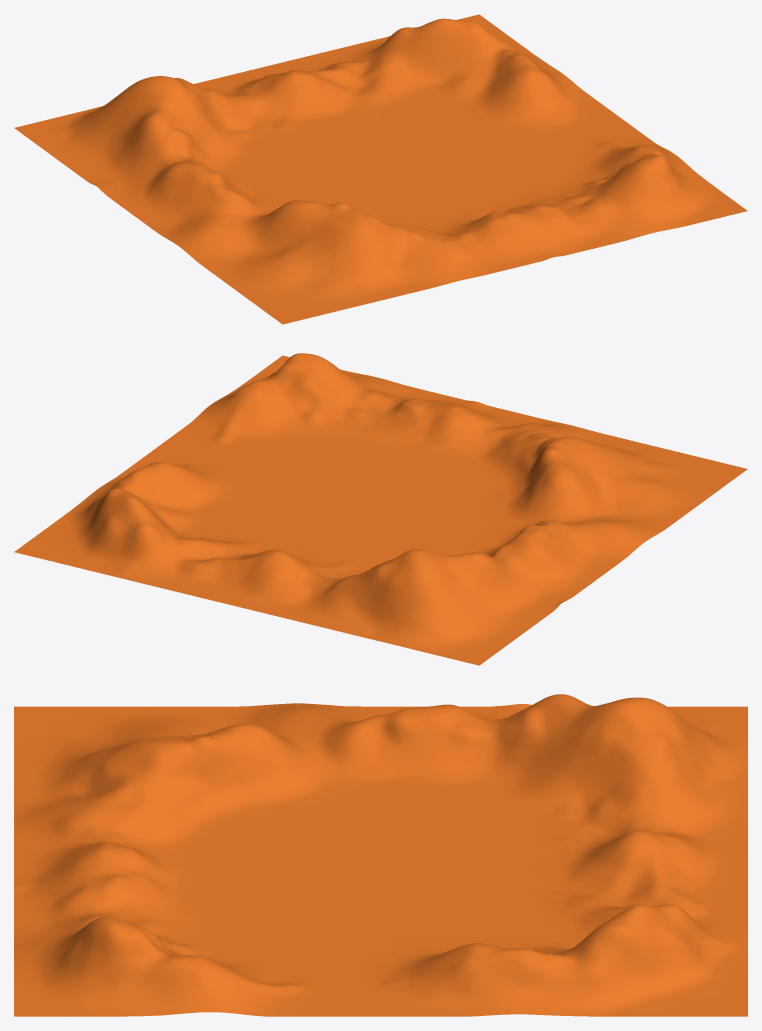
Rendered from MazeTerrain.FBX.
The picture shows the model from 3 angles, top to bottom: view 1: azimuth 30°, elevation 25°; view 2: azimuth 150°, elevation 25°; view 3: azimuth 270°, elevation 25°; orthographic projection. The views are drawn at different scales.
Visible parts, largest first — view 1: Terrain; view 2: Terrain; view 3: Terrain.
Part boxes in pixels (x1,y1,x2,y2): Terrain: [14, 14, 747, 324]; Terrain: [14, 353, 747, 665]; Terrain: [14, 694, 747, 1016].
Bounding box in the file's own units: 200 × 22.76 × 200.
